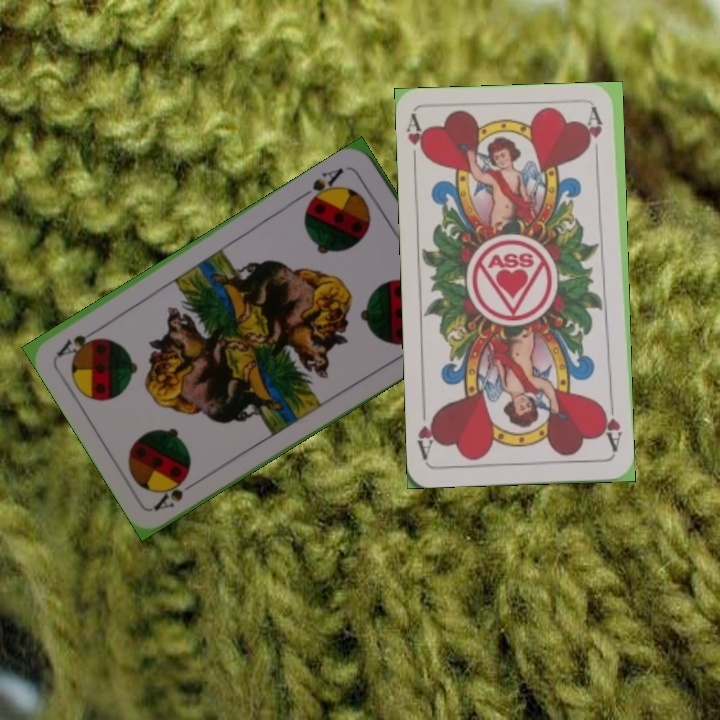HA: (402, 113, 430, 172), (597, 396, 624, 454)
SA: (150, 471, 204, 513), (298, 164, 347, 208)
